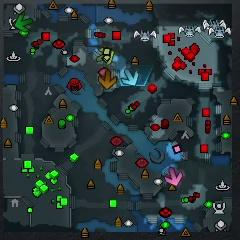x1: (165, 167, 182, 186)
x2: (96, 47, 114, 66)
x3: (121, 69, 139, 86)
x4: (15, 14, 32, 31)
x5: (98, 70, 117, 90)
